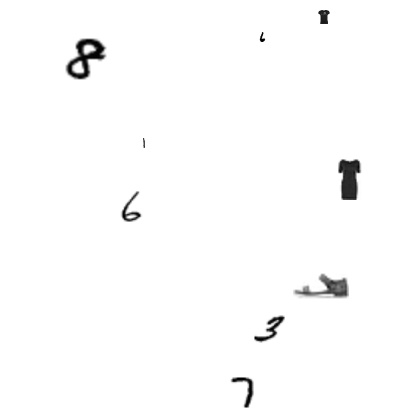1: (137, 136, 151, 150)
3: (250, 308, 292, 350)
6: (109, 190, 151, 232), (255, 31, 269, 45)
7: (225, 367, 267, 409)
8: (56, 29, 112, 85)
Dress: (328, 158, 370, 200)
Sandal: (293, 258, 349, 314)
T-shirt/top: (317, 10, 331, 24)
